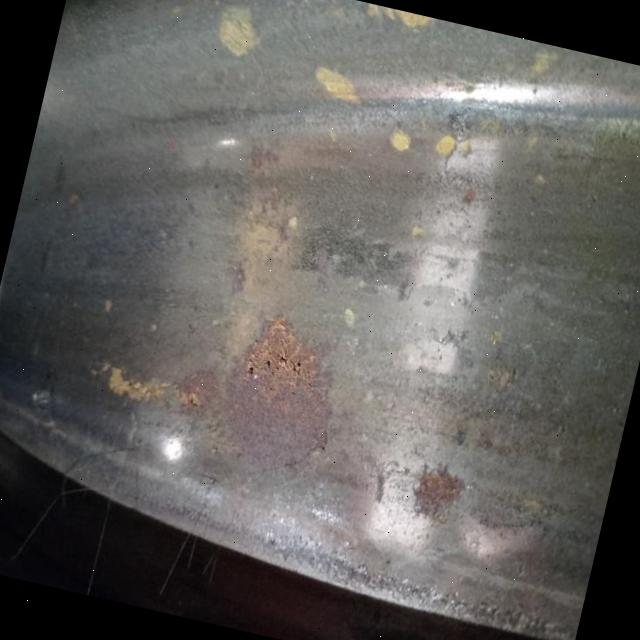Out_Of_Roundness: (218, 95, 526, 385)
